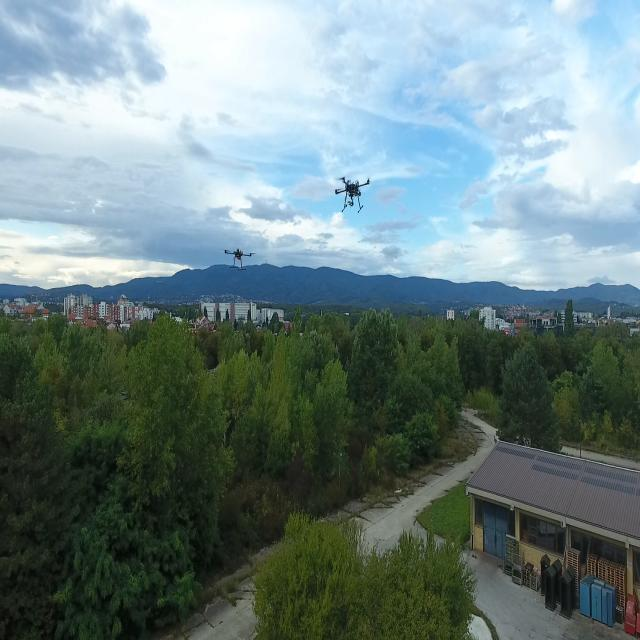UAV: (331, 168, 374, 216), (215, 244, 263, 270)
